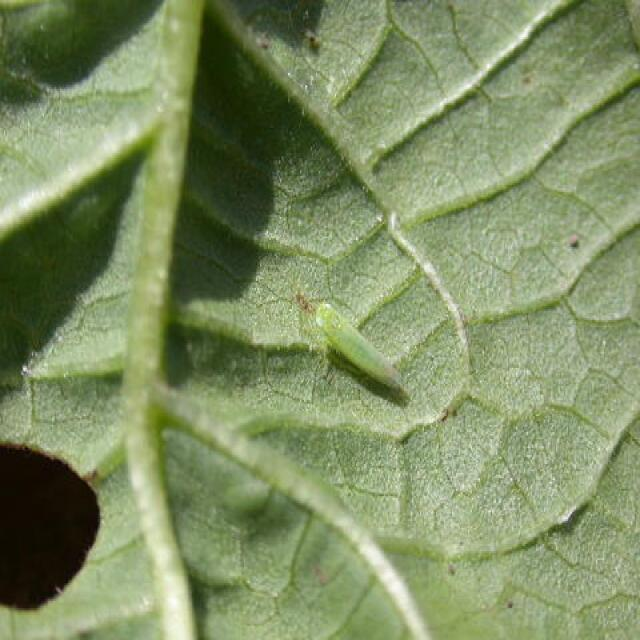Yechan: (313, 288, 413, 424)
